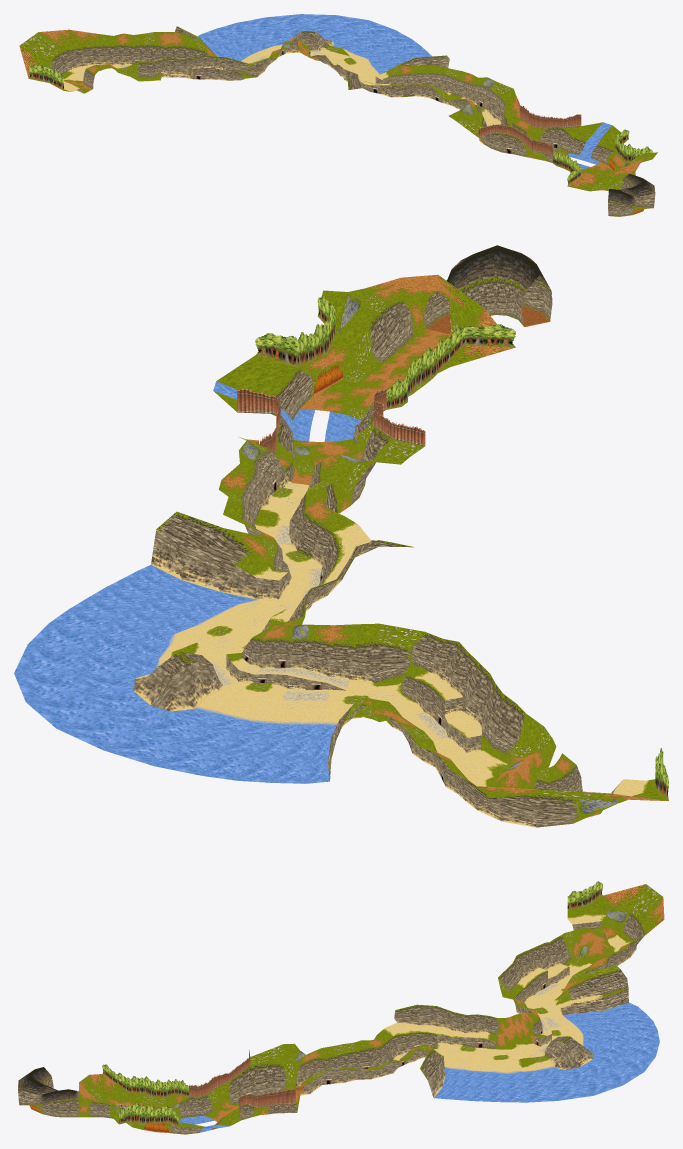
File: Gaule2.obj
3 renders of one model, top to bottom at view 1: azimuth 30°, elevation 25°; view 2: azimuth 150°, elevation 25°; view 3: azimuth 270°, elevation 25°, orthographic. The views are drawn at different scales.
Parts seen in each view (by area): view 1: model; view 2: model; view 3: model.
Part boxes in pixels (x1,y1,x2,y2): model: (19,14,657,216); model: (14,245,668,827); model: (18,881,664,1134).
Size of the model in its own units: 8386 by 1026 by 10778.
1 material, 1 textured.
